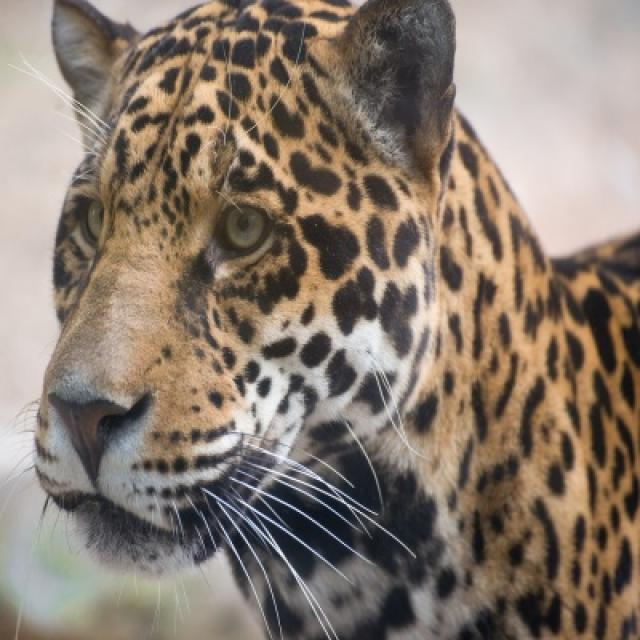Jaguar: (29, 0, 638, 638)
